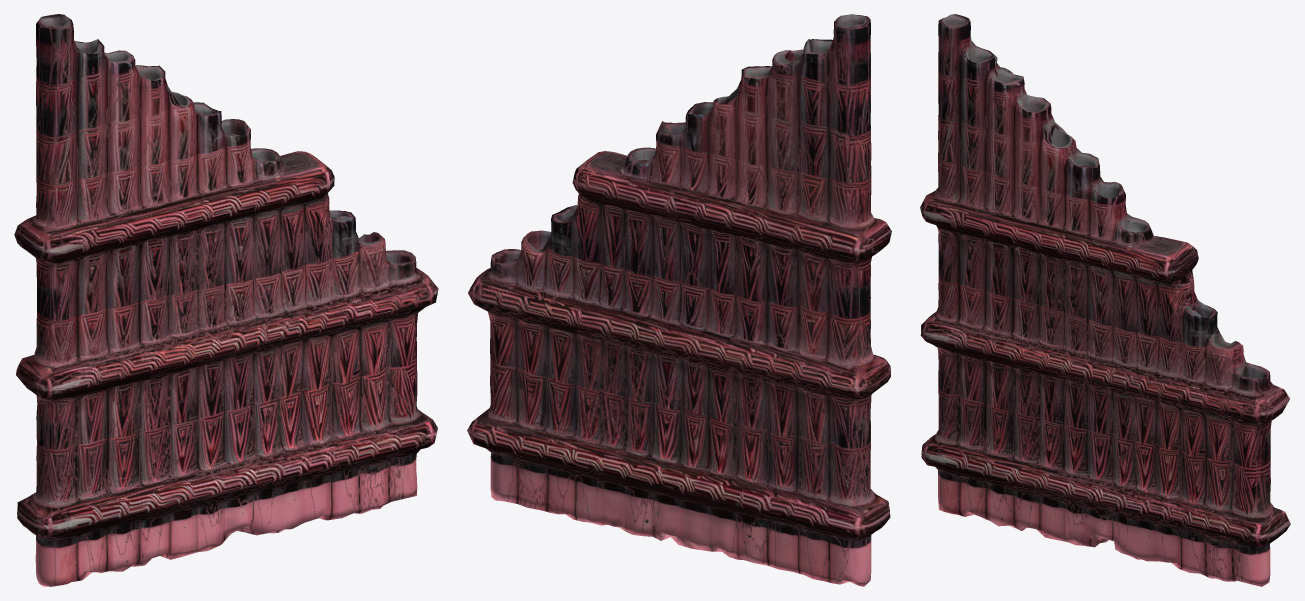
Rendered from 15-han-bamboo-paixiao.glb.
The picture shows the model from 3 angles, left to right: view 1: azimuth 30°, elevation 25°; view 2: azimuth 150°, elevation 25°; view 3: azimuth 330°, elevation 25°; orthographic projection. The views are drawn at different scales.
Parts seen in each view (by area): view 1: node_0; view 2: node_0; view 3: node_0.
Boxes of the visible parts, x1,y1,x2,y2 form: node_0: (14,14,438,586); node_0: (467,14,891,586); node_0: (920,14,1290,586).
Size of the model in its own units: 0.7408 by 0.9824 by 0.1059.
1 material, 1 textured.
